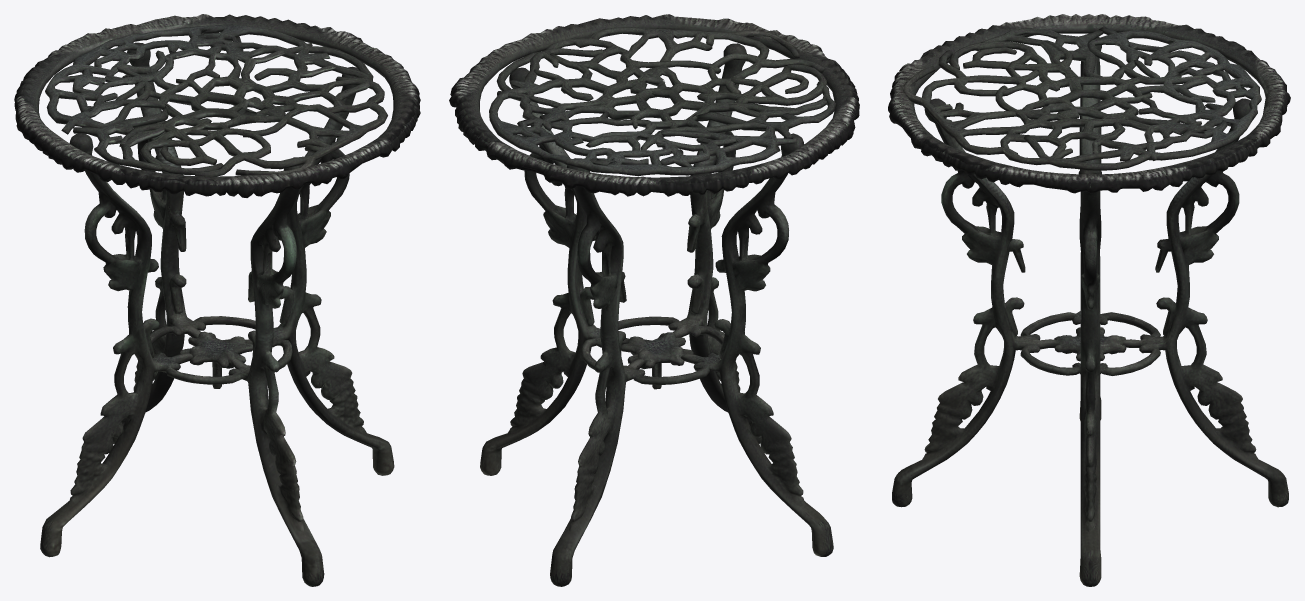
File: Wrought_iron_CocktailTable_30InchesTall_0222025925_texture.glb
3 views of the same model, side by side, from view 1: azimuth 30°, elevation 25°; view 2: azimuth 150°, elevation 25°; view 3: azimuth 270°, elevation 25° (orthographic).
Parts seen in each view (by area): view 1: Mesh_0; view 2: Mesh_0; view 3: Mesh_0.
Part boxes in pixels (<box>): Mesh_0: <box>14,14,420,586</box>; Mesh_0: <box>449,14,859,586</box>; Mesh_0: <box>888,14,1290,586</box>.
Size of the model in its own units: 0.6712 by 0.762 by 0.6744.
Materials: 1 (1 with a texture image).
